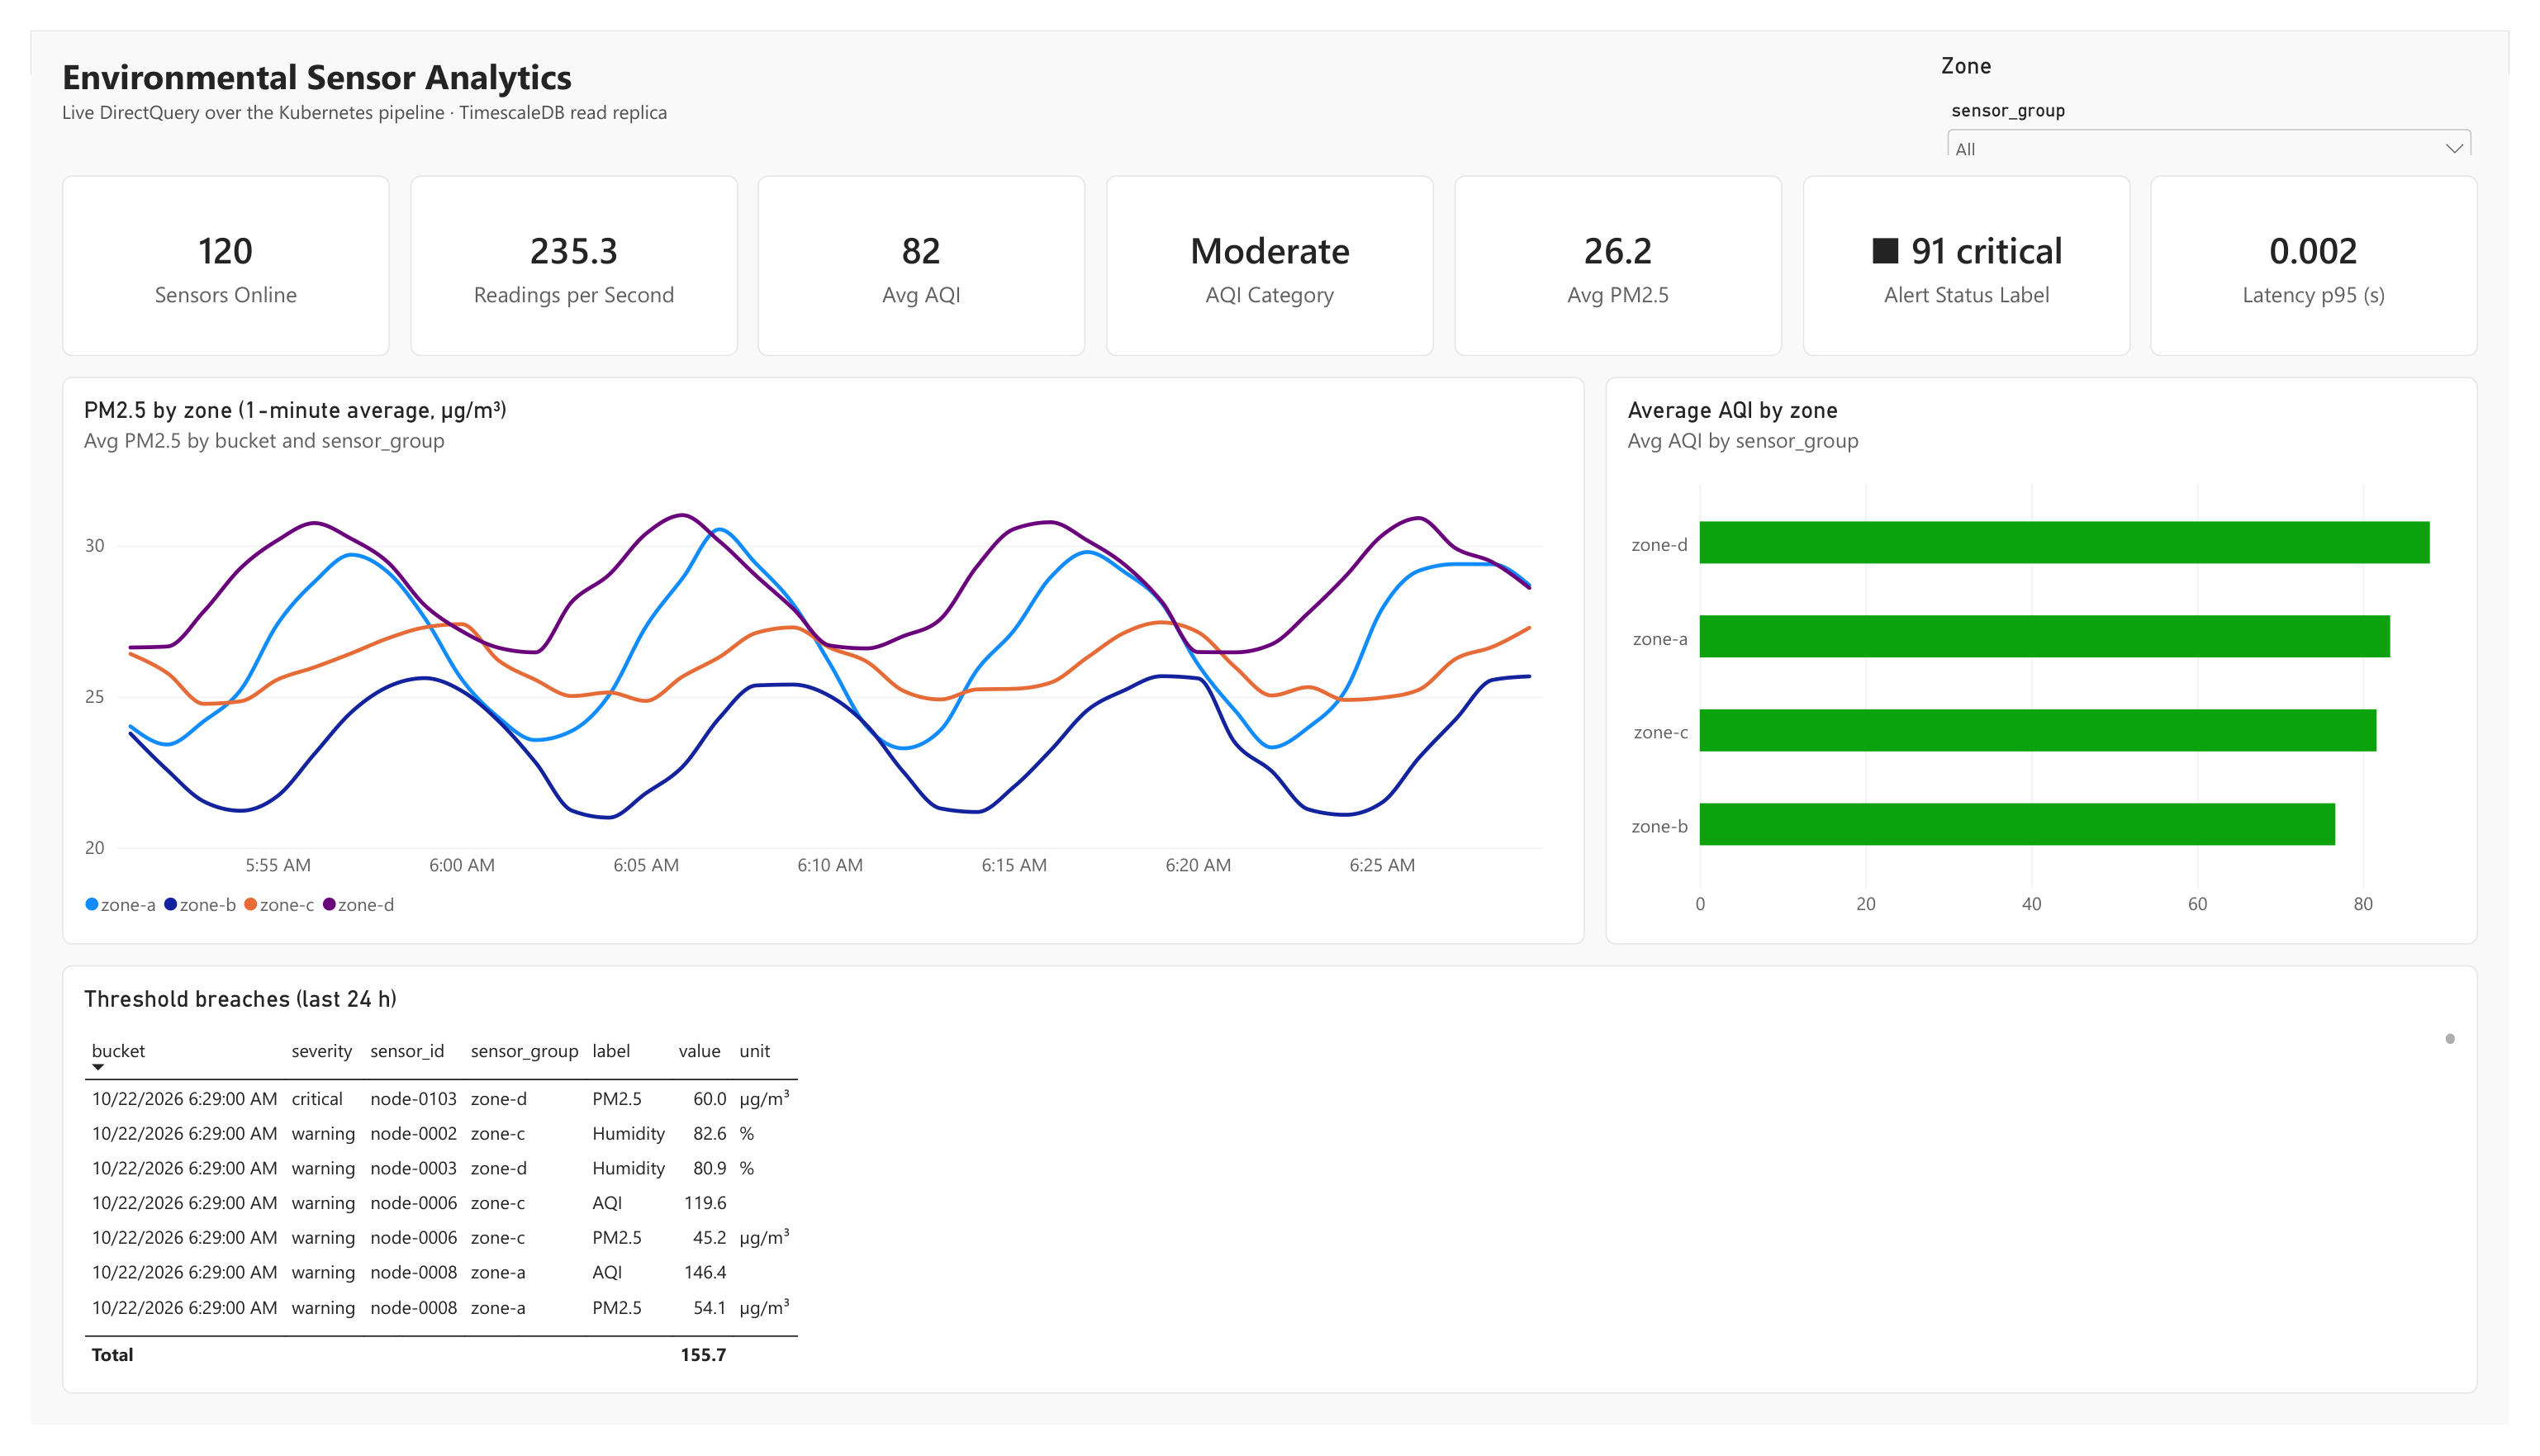

What the dashboard file says about the page in this screenshot:
{"tool":"powerbi","page":{"name":"Overview","canvas":[1920,1080],"ordinal":0},"visuals":[{"type":"textbox","box":[24,16,1100,80],"z":0},{"type":"slicer","title":"Zone","fields":{"Values":["bi dim_sensor.sensor_group"]},"box":[1480,16,416,80],"z":1000},{"type":"card","fields":{"Values":["bi fact_1m.Sensors Online"]},"box":[24,112,254,140],"z":2000},{"type":"card","fields":{"Values":["bi fact_1m.Readings per Second"]},"box":[294,112,254,140],"z":3000},{"type":"card","fields":{"Values":["bi fact_1m.Avg AQI"]},"box":[563,112,254,140],"z":4000},{"type":"card","fields":{"Values":["bi fact_1m.AQI Category"]},"box":[833,112,254,140],"z":5000},{"type":"card","fields":{"Values":["bi fact_1m.Avg PM2.5"]},"box":[1103,112,254,140],"z":6000},{"type":"card","fields":{"Values":["bi fact_1m.Alert Status Label"]},"box":[1373,112,254,140],"z":7000},{"type":"card","fields":{"Values":["bi fact_1m.Latency p95 (s)"]},"box":[1642,112,254,140],"z":8000},{"type":"lineChart","title":"PM2.5 by zone (1-minute average, µg/m³)","fields":{"Category":["bi fact_1m.bucket"],"Y":["bi fact_1m.Avg PM2.5"],"Series":["bi dim_sensor.sensor_group"]},"box":[24,268,1180,440],"z":9000},{"type":"clusteredBarChart","title":"Average AQI by zone","fields":{"Category":["bi dim_sensor.sensor_group"],"Y":["bi fact_1m.Avg AQI"]},"box":[1220,268,676,440],"z":10000},{"type":"tableEx","title":"Threshold breaches (last 24 h)","fields":{"Values":["bi alerts.bucket","bi alerts.severity","bi alerts.sensor_id","bi alerts.sensor_group","bi alerts.label","Max(bi alerts.value)","bi alerts.unit"]},"box":[24,724,1872,332],"z":11000}]}

Visuals, with their boxes on the page's 1920x1080 design canvas (x1, y1, x2, y2). These are canvas units, not pixel positions in the 2540x1456 screenshot, which may show the page scaled, cropped or inside an application window:
textbox: (24,16,1124,96)
"Zone" slicer: (1480,16,1896,96)
card - bi fact_1m.Sensors Online: (24,112,278,252)
card - bi fact_1m.Readings per Second: (294,112,548,252)
card - bi fact_1m.Avg AQI: (563,112,817,252)
card - bi fact_1m.AQI Category: (833,112,1087,252)
card - bi fact_1m.Avg PM2.5: (1103,112,1357,252)
card - bi fact_1m.Alert Status Label: (1373,112,1627,252)
card - bi fact_1m.Latency p95 (s): (1642,112,1896,252)
"PM2.5 by zone (1-minute average, µg/m³)" lineChart: (24,268,1204,708)
"Average AQI by zone" clusteredBarChart: (1220,268,1896,708)
"Threshold breaches (last 24 h)" tableEx: (24,724,1896,1056)
